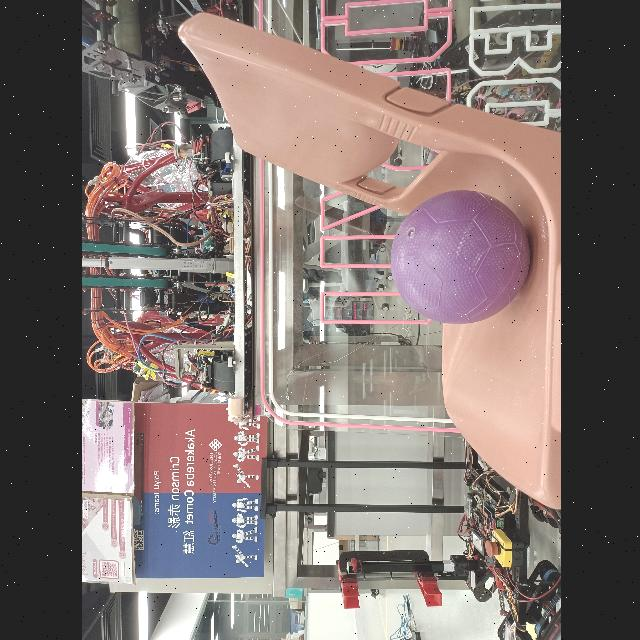P: (385, 188, 531, 326)
